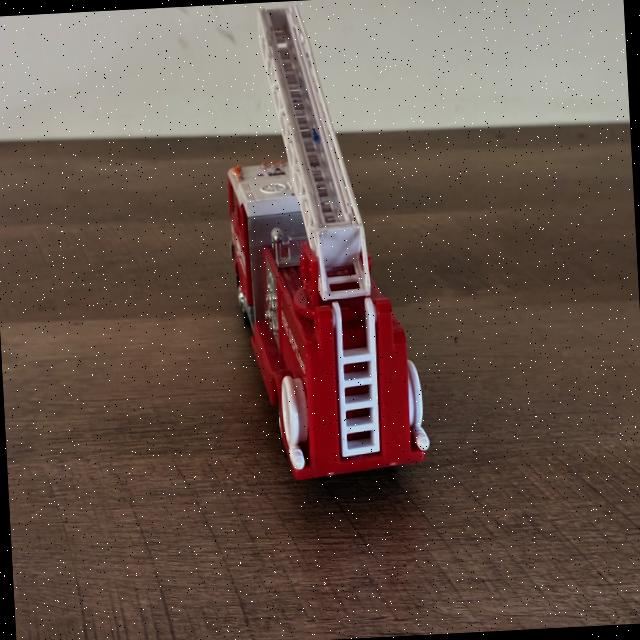fire-truck: (228, 3, 429, 479)
